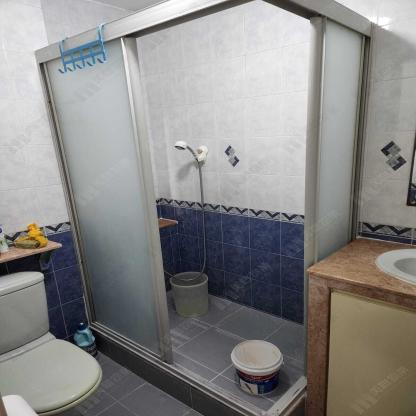Toilet: (0, 269, 105, 415)
Toilet Sink: (306, 237, 415, 307)
Water Cubicle: (32, 0, 377, 416)
